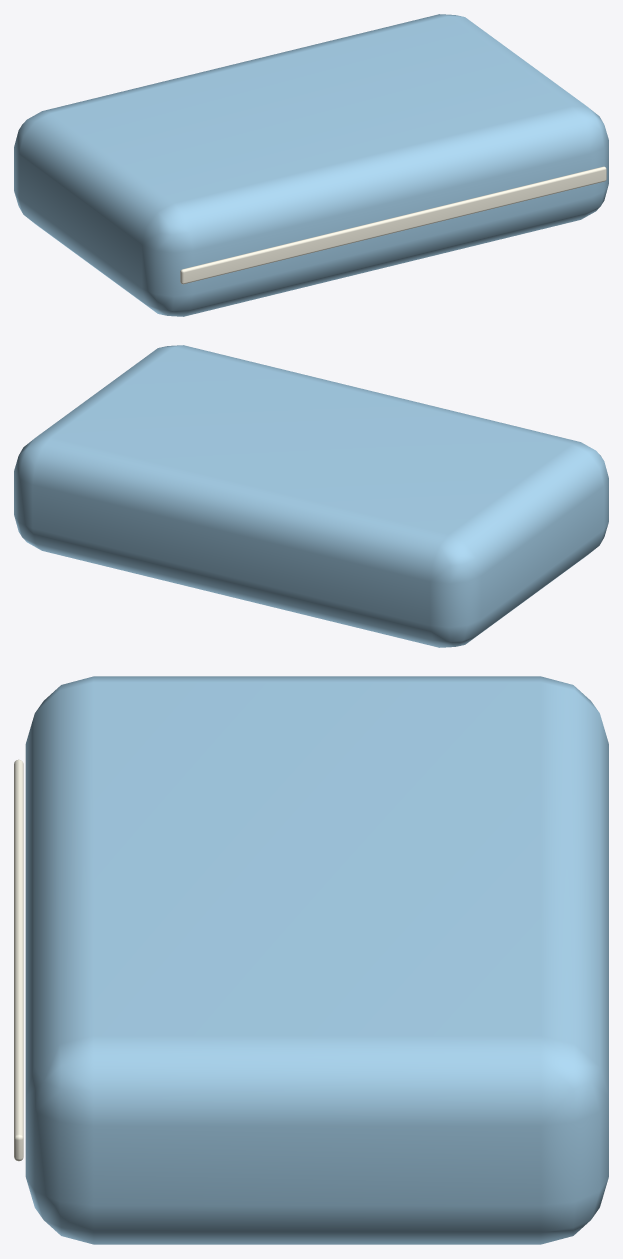
File: bathroomHangingTowel.glb
3 views of the same model, one above another, from view 1: azimuth 30°, elevation 25°; view 2: azimuth 150°, elevation 25°; view 3: azimuth 270°, elevation 25° (orthographic). The views are drawn at different scales.
Parts seen in each view (by area): view 1: Folded towel, Towel fold; view 2: Folded towel; view 3: Folded towel, Towel fold.
Part boxes in pixels (x1,y1,x2,y2): Folded towel: (14, 14, 608, 316); Towel fold: (180, 166, 606, 284); Folded towel: (14, 345, 608, 647); Folded towel: (25, 676, 608, 1244); Towel fold: (14, 759, 23, 1161).
Size of the model in its own units: 1 by 0.23 by 0.612.
